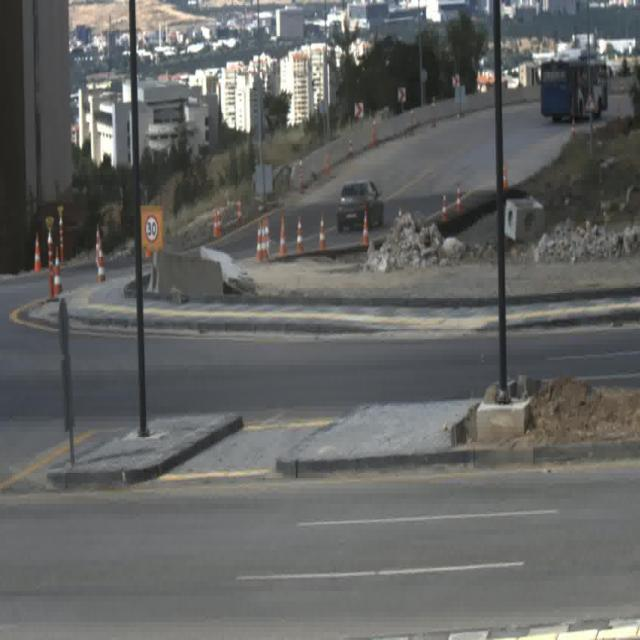Bus: (541, 50, 608, 124)
Car: (337, 174, 386, 228)
